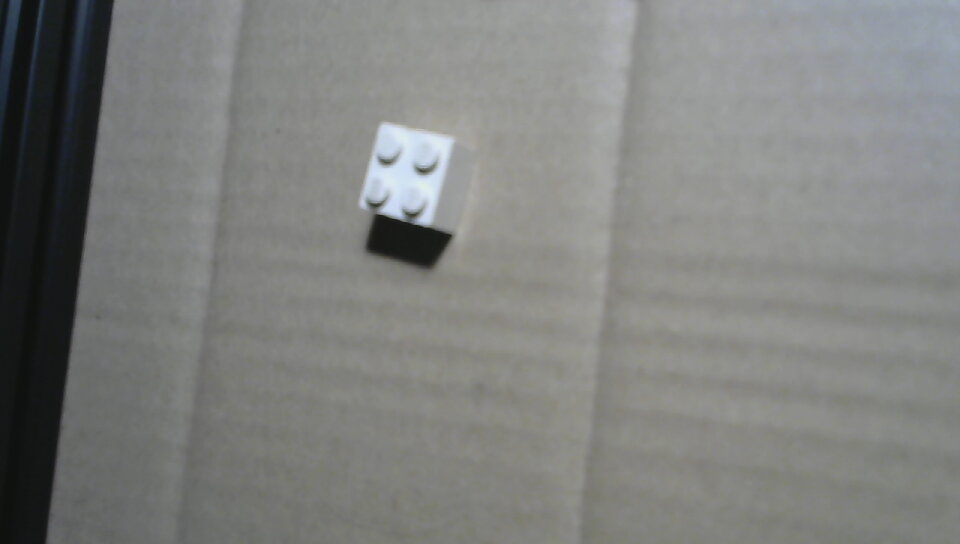wp: (336, 111, 508, 260)
